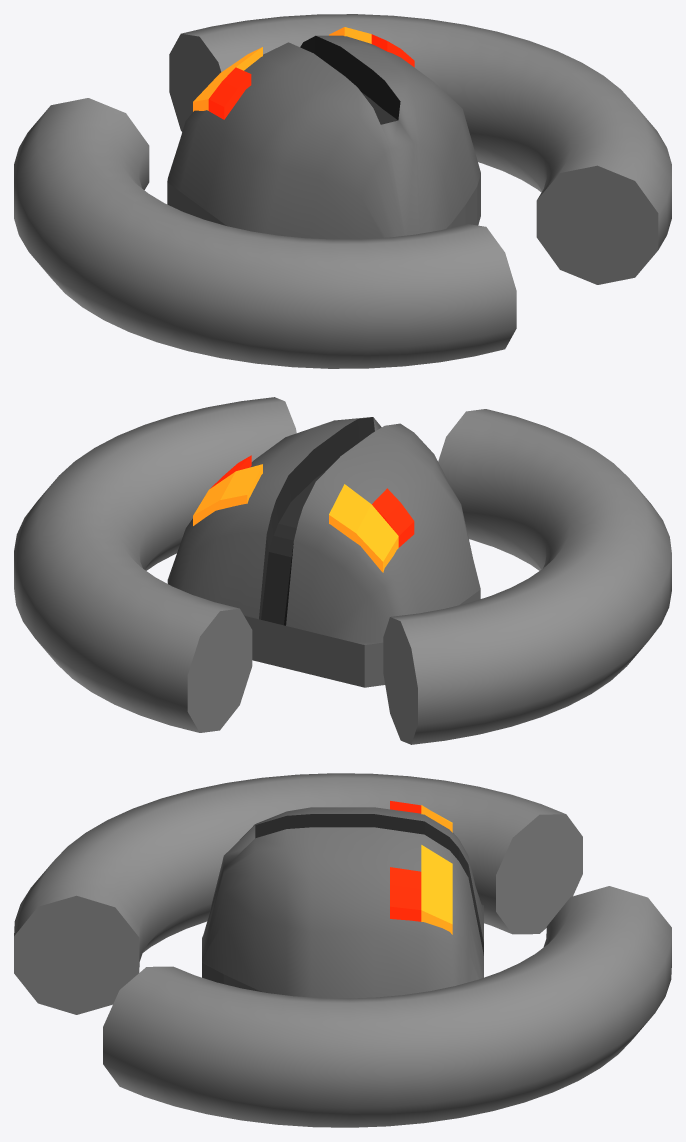
The model's file is newsh2-229-f8.glb.
The picture shows the model from 3 angles, top to bottom: view 1: azimuth 30°, elevation 25°; view 2: azimuth 150°, elevation 25°; view 3: azimuth 270°, elevation 25°; orthographic projection.
Visible parts, largest first — view 1: newsh2-229-f8; view 2: newsh2-229-f8; view 3: newsh2-229-f8.
Part boxes in pixels (box(x1,y1,x2,y2)): newsh2-229-f8: box(14, 14, 671, 368); newsh2-229-f8: box(14, 397, 671, 744); newsh2-229-f8: box(14, 773, 671, 1127).
Bounding box in the file's own units: 1.75 × 0.5555 × 1.75.
